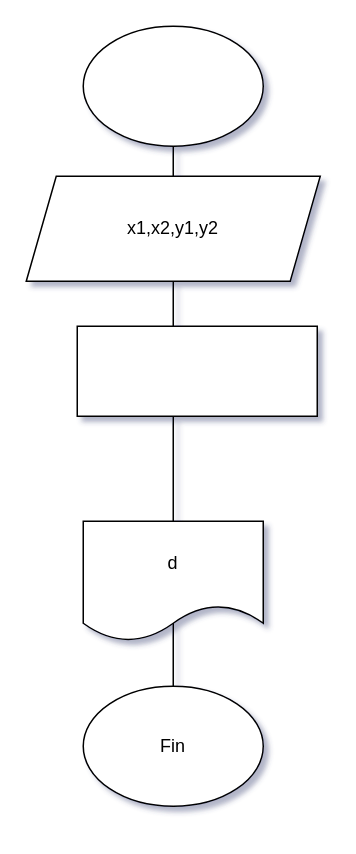
Image size: 356x854. Some labels were removed from this diagram. Each missing label, with the box of its shape:
d = √((x2 - x1)² + (y2 - y1)²): (76, 325, 317, 416)
Inicio: (82, 25, 263, 146)
